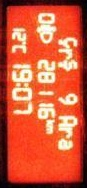0: (9, 87, 32, 100), (36, 11, 54, 24)
1: (35, 88, 54, 96), (10, 61, 31, 68), (36, 100, 54, 107), (9, 26, 26, 31)
2: (36, 58, 54, 71), (10, 31, 26, 41)
6: (36, 107, 55, 118)
7: (11, 100, 33, 115)
8: (35, 71, 55, 83)
9: (9, 68, 32, 81), (56, 91, 77, 105)
X: (55, 35, 77, 48), (56, 59, 78, 71), (56, 114, 77, 126), (56, 138, 73, 150), (56, 127, 72, 138), (57, 48, 72, 59), (9, 44, 26, 53), (44, 124, 53, 133), (44, 118, 55, 124), (13, 82, 29, 86)
